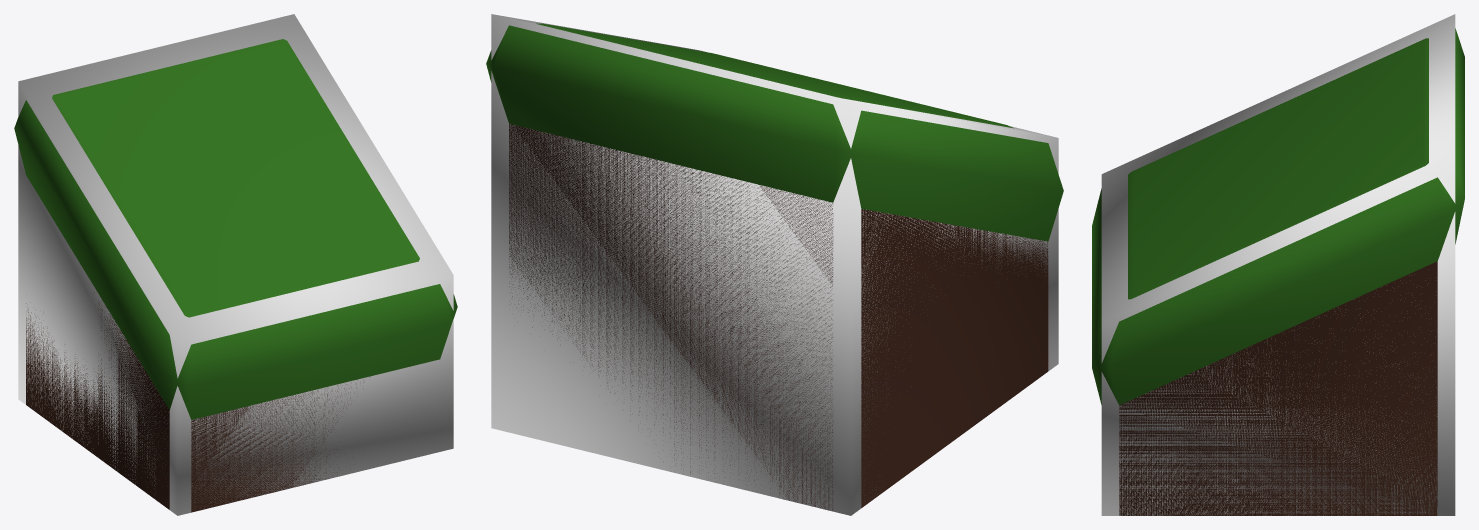
Rendered from grass_ramp.glb.
The picture shows the model from 3 angles, left to right: view 1: azimuth 30°, elevation 25°; view 2: azimuth 150°, elevation 25°; view 3: azimuth 270°, elevation 25°; orthographic projection. The views are drawn at different scales.
Parts seen in each view (by area): view 1: grass_ramp, grass_ramp_phy; view 2: grass_ramp, grass_ramp_phy; view 3: grass_ramp, grass_ramp_phy.
Part boxes in pixels (<box>): grass_ramp: <box>14,39,457,512</box>; grass_ramp_phy: <box>18,14,453,515</box>; grass_ramp: <box>486,23,1063,511</box>; grass_ramp_phy: <box>491,14,1058,515</box>; grass_ramp: <box>1092,28,1464,515</box>; grass_ramp_phy: <box>1101,14,1455,515</box>.
Bounding box in the file's own units: 1.05 × 1.1 × 1.05.
